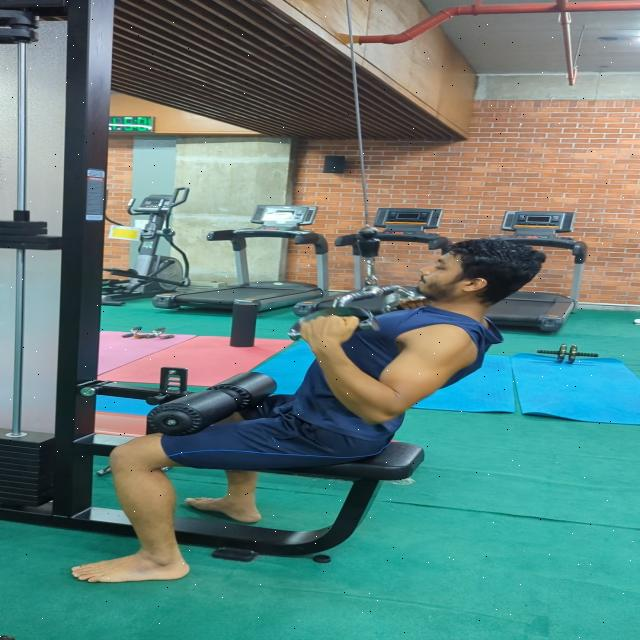Normal_LatPulldown: (53, 225, 560, 592)
